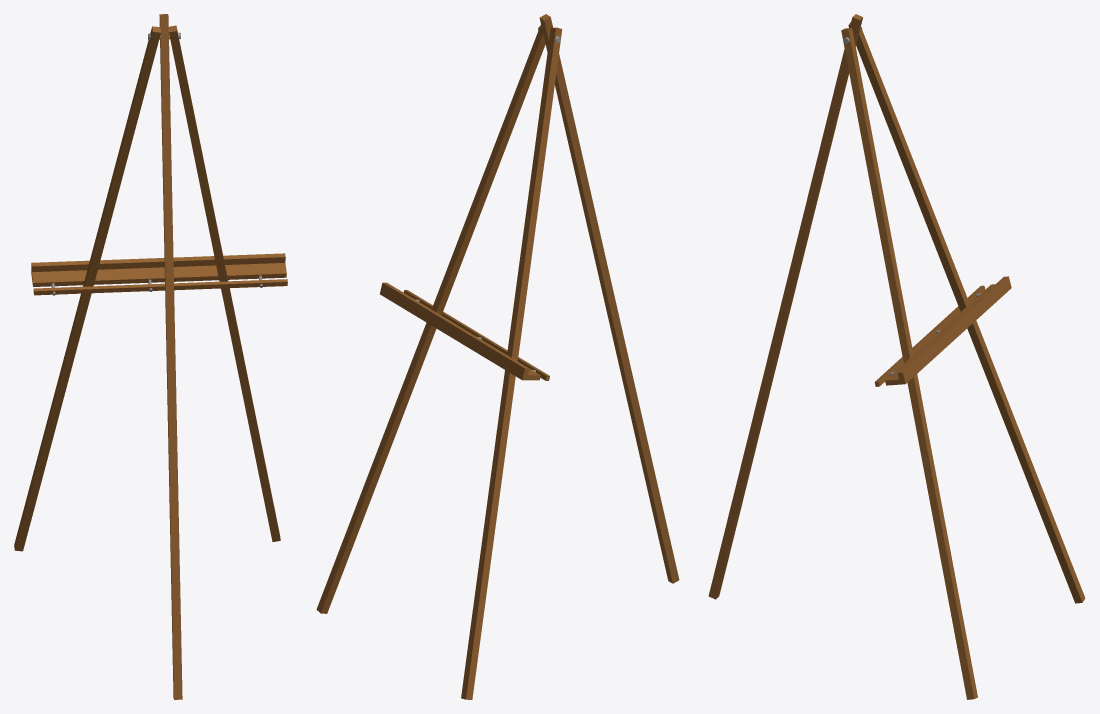
The model's file is Easel.fbx.
The picture shows the model from 3 angles, left to right: view 1: azimuth 30°, elevation 25°; view 2: azimuth 150°, elevation 25°; view 3: azimuth 270°, elevation 25°; orthographic projection. The views are drawn at different scales.
Visible parts, largest first — view 1: Cube.009; view 2: Cube.009; view 3: Cube.009.
Boxes of the visible parts, x1=… form: Cube.009: x1=14, y1=14, x2=287, y2=699; Cube.009: x1=316, y1=14, x2=679, y2=699; Cube.009: x1=708, y1=14, x2=1085, y2=699.
Bounding box in the file's own units: 68.72 × 167 × 93.79.
